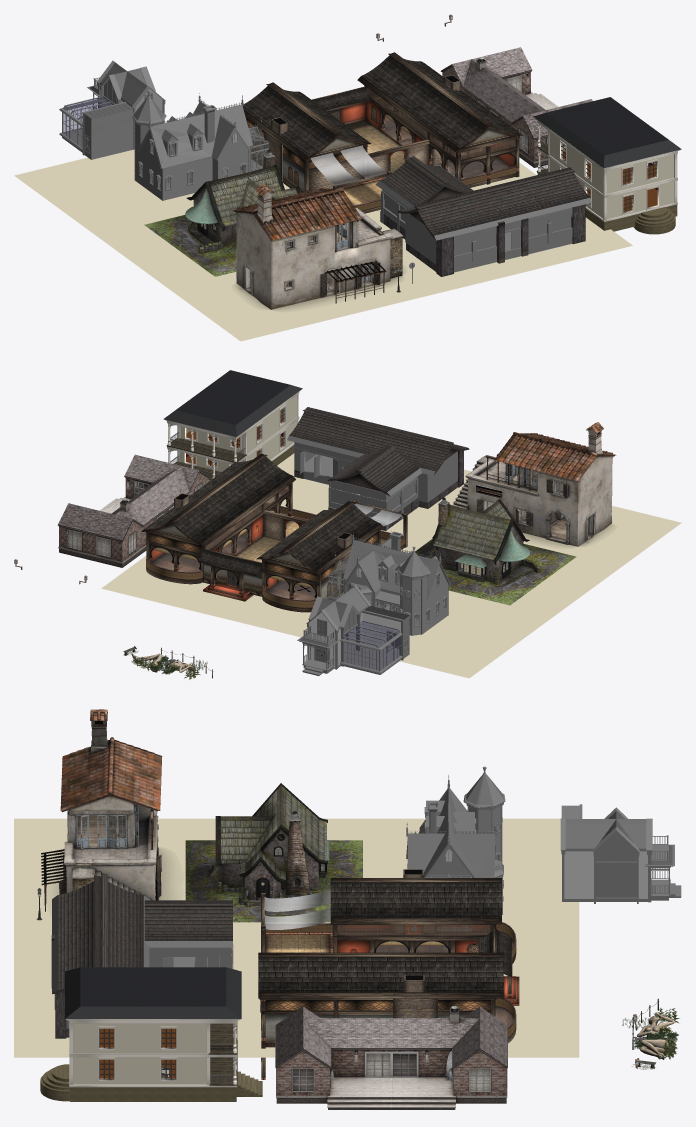
The picture shows the model from 3 angles, top to bottom: view 1: azimuth 30°, elevation 25°; view 2: azimuth 150°, elevation 25°; view 3: azimuth 270°, elevation 25°; orthographic projection. The views are drawn at different scales.
Visible parts, largest first — view 1: Terrain 8,0, Bahia Tiki- Casablanca (×16), Shop 03 - 70s, prim0-mesh (×8), Garden District House, dust bunny poppy cottage RARE (×4), Cottage Bonnuit Copy (×4), prim0-mesh_0 (×4), 22769 - Little Winter Cottage (×4); view 2: Terrain 8,0, Bahia Tiki- Casablanca (×12), Shop 03 - 70s, prim0-mesh (×5), Garden District House, Cottage Bonnuit Copy (×4), dust bunny poppy cottage RARE (×4), prim0-mesh_0 (×6), 22769 - Little Winter Cottage (×6); view 3: Terrain 8,0, Bahia Tiki- Casablanca (×14), Garden District House, prim0-mesh_0 (×8), Cottage Bonnuit Copy (×4), prim0-mesh (×8), Shop 03 - 70s, dust bunny poppy cottage RARE (×2), 22769 - Little Winter Cottage (×3), door;<-2.894630,2.296524,-0.251678>;<0.000000,0.000000,0.000, door;<-11.331795,2.296524,-0.251678>;<0.000000,0.000000,0.00.
Part boxes in pixels (box(x1,y1,x2,y2)): Terrain 8,0: box(14, 140, 632, 341); Bahia Tiki- Casablanca (×16): box(243, 52, 523, 213); Shop 03 - 70s: box(375, 156, 592, 276); prim0-mesh (×8): box(232, 184, 403, 309); Garden District House: box(533, 97, 681, 234); dust bunny poppy cottage RARE (×4): box(132, 90, 268, 200); Cottage Bonnuit Copy (×4): box(144, 164, 300, 276); prim0-mesh_0 (×4): box(440, 47, 592, 161); 22769 - Little Winter Cottage (×4): box(59, 62, 146, 159); Terrain 8,0: box(101, 453, 681, 678); Bahia Tiki- Casablanca (×12): box(141, 453, 383, 600); Shop 03 - 70s: box(287, 407, 469, 530); prim0-mesh (×5): box(465, 432, 616, 546); Garden District House: box(163, 370, 302, 480); Cottage Bonnuit Copy (×4): box(415, 499, 576, 605); dust bunny poppy cottage RARE (×4): box(328, 531, 450, 635); prim0-mesh_0 (×6): box(57, 454, 210, 567); 22769 - Little Winter Cottage (×6): box(309, 587, 402, 674); Terrain 8,0: box(14, 818, 579, 1057); Bahia Tiki- Casablanca (×14): box(258, 878, 503, 1018); Garden District House: box(40, 967, 254, 1101); prim0-mesh_0 (×8): box(275, 1006, 507, 1109); Cottage Bonnuit Copy (×4): box(185, 783, 362, 922); prim0-mesh (×8): box(41, 709, 162, 911); Shop 03 - 70s: box(51, 875, 233, 1038); dust bunny poppy cottage RARE (×2): box(406, 766, 505, 914); 22769 - Little Winter Cottage (×3): box(564, 811, 647, 903); door;<-2.894630,2.296524,-0.251678>;<0.000000,0.000000,0.000: box(391, 1052, 417, 1077); door;<-11.331795,2.296524,-0.251678>;<0.000000,0.000000,0.00: box(365, 1052, 391, 1077).
Size of the model in its own units: 78.61 by 24.67 by 75.61.
Materials: 371 (363 with a texture image).
